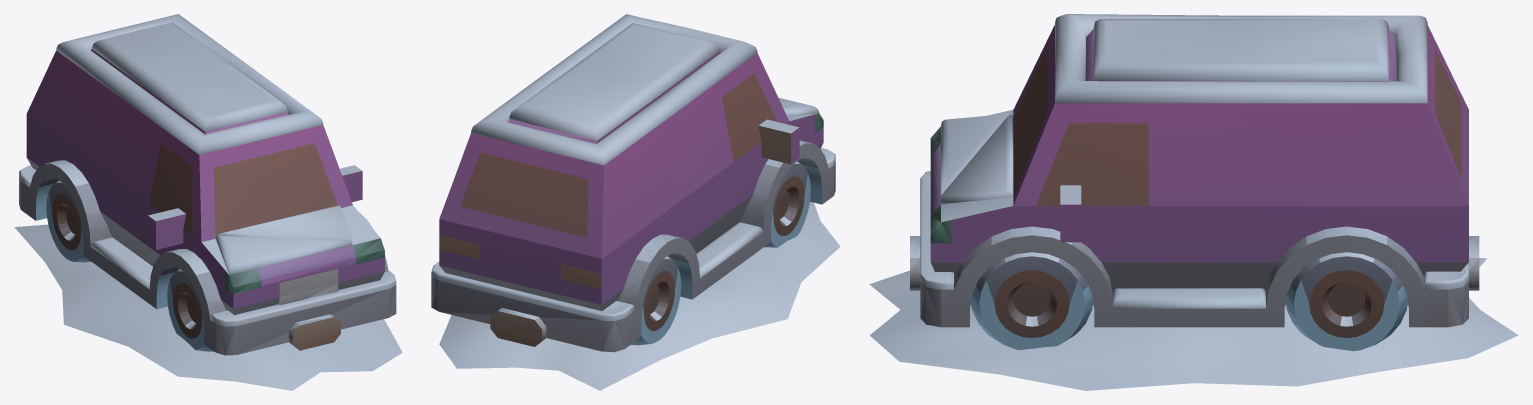
The model's file is k_van.glb.
3 views of the same model, side by side, from view 1: azimuth 30°, elevation 25°; view 2: azimuth 150°, elevation 25°; view 3: azimuth 270°, elevation 25° (orthographic). The views are drawn at different scales.
Parts seen in each view (by area): view 1: Body; view 2: Body; view 3: Body.
Part boxes in pixels (left/top/right/bottom): Body: left=14, top=14, right=402, bottom=390; Body: left=431, top=14, right=840, bottom=390; Body: left=869, top=14, right=1518, bottom=390.
Bounding box in the file's own units: 3.73 × 2.73 × 5.93.
